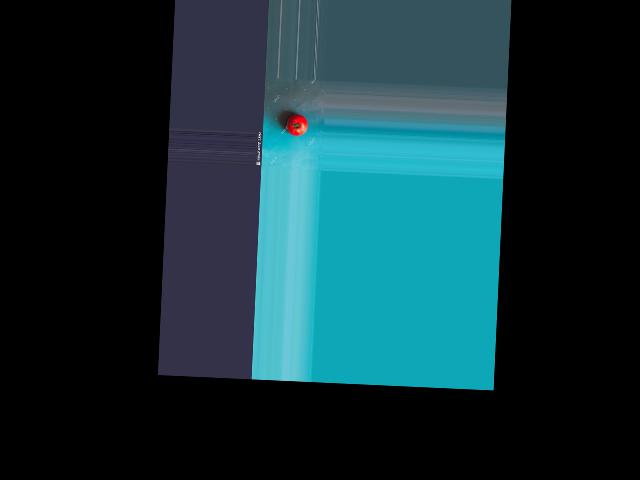tomato: (285, 113, 308, 136)
